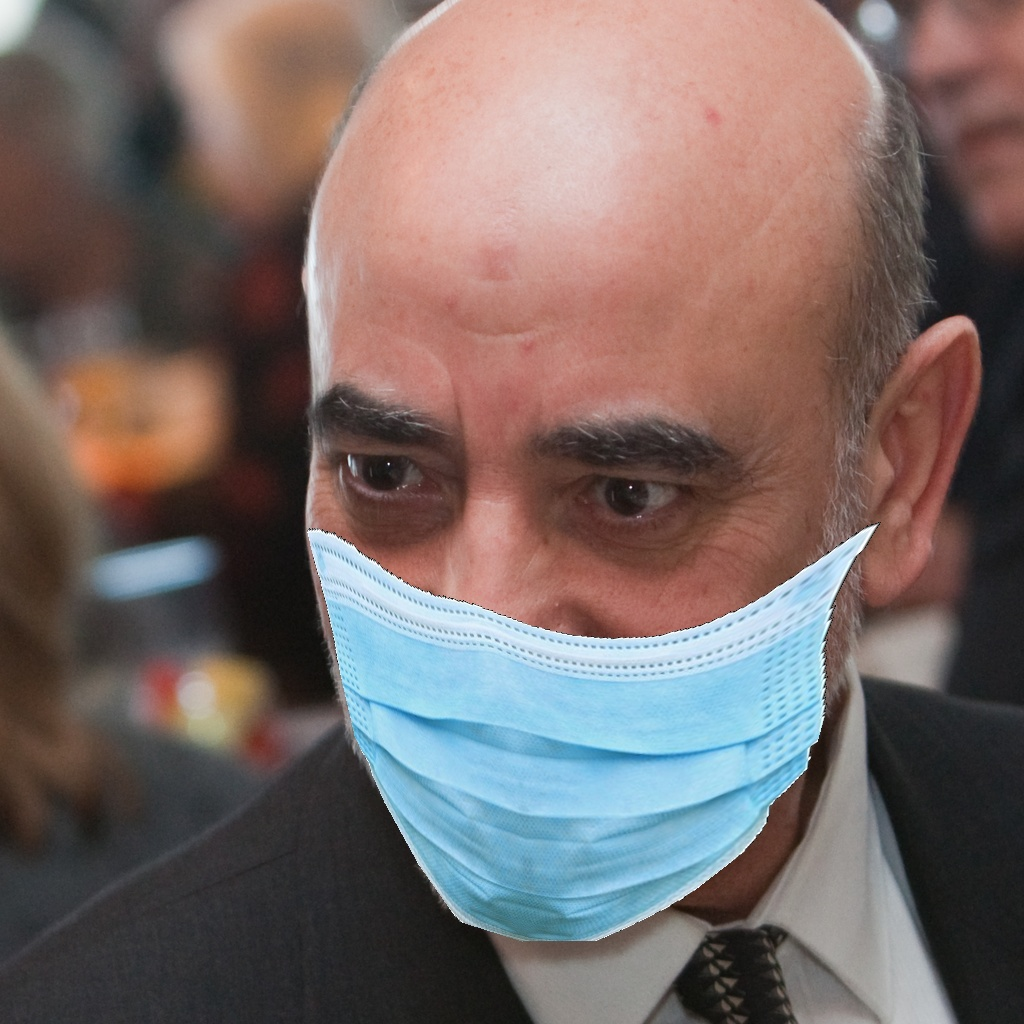Mask: (307, 357, 868, 943)
